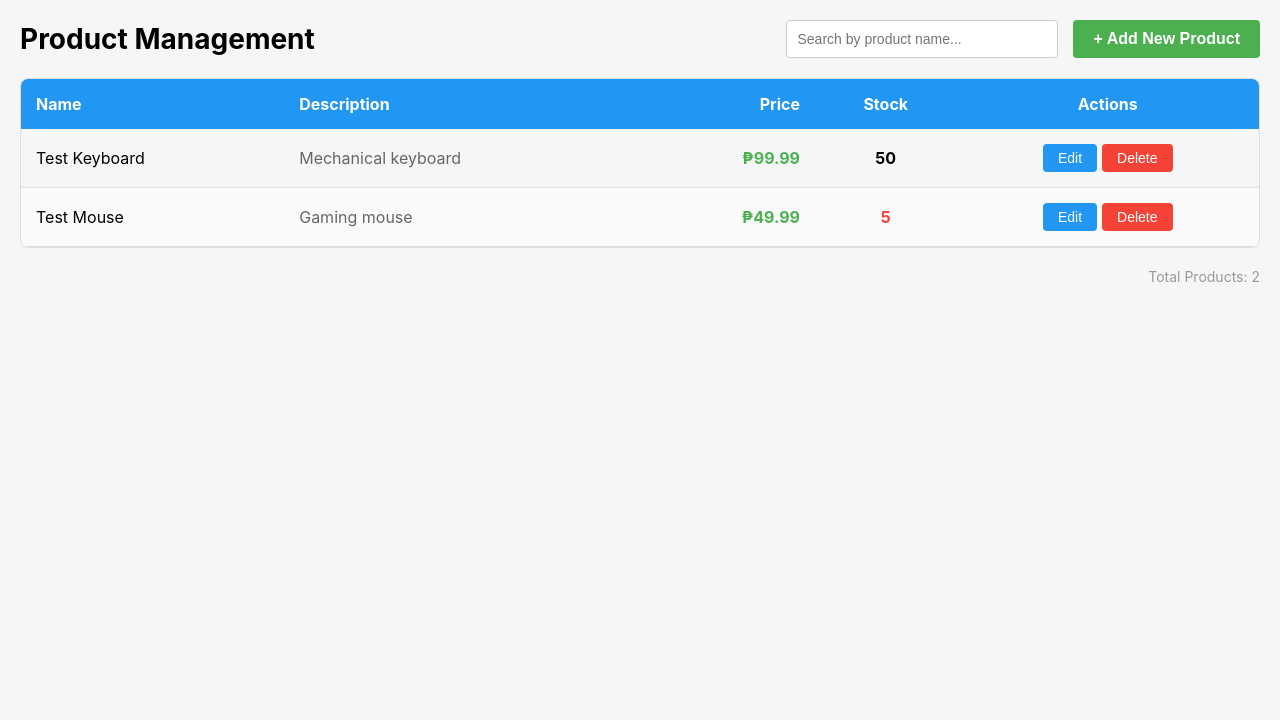
Test case: ProductManagement Component › shows add product form when button clicked
This screenshot has width=1280, height=720.
Expected: the text "Test Keyboard" is shown, top-left (21, 129), bottom-right (284, 188)
Click the button "+ Add New Product" at (1167, 39), box top-left (1074, 20), bottom-right (1260, 58)
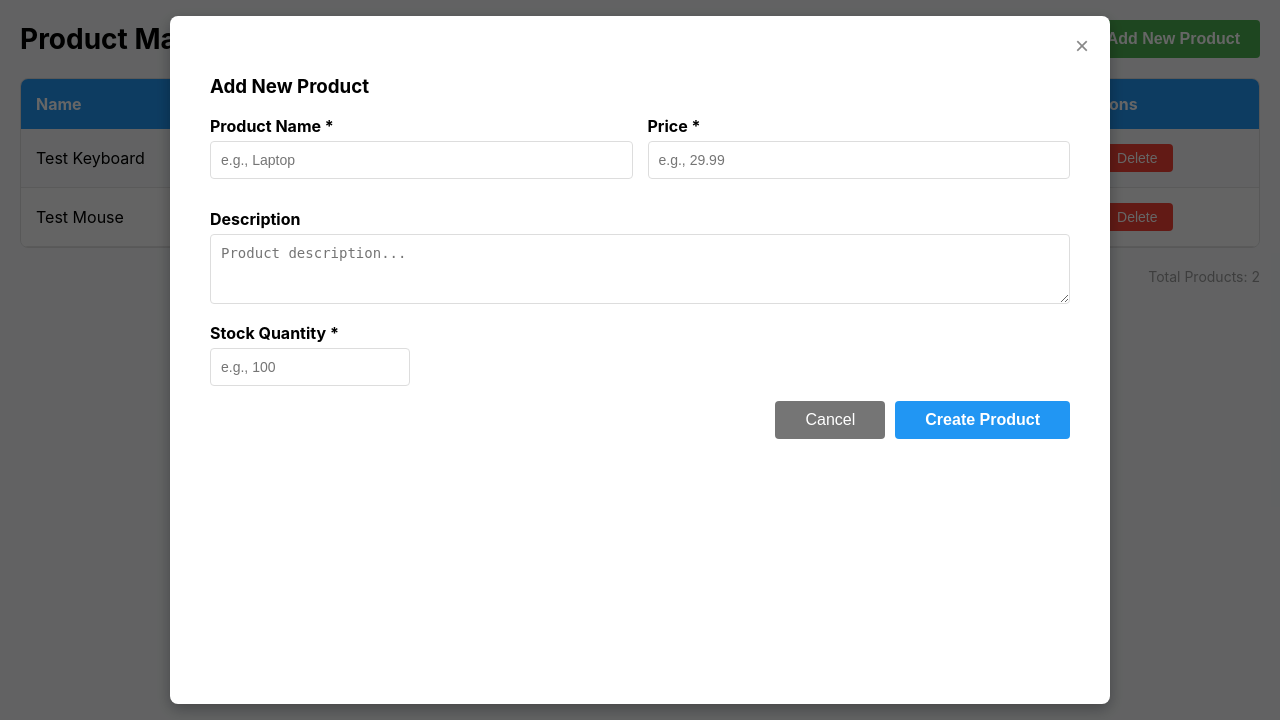
Expected: the heading "Add New Product" is shown, top-left (210, 75), bottom-right (369, 98)
Expected: the field with placeholder "e.g., Laptop" is shown, top-left (210, 141), bottom-right (632, 179)
